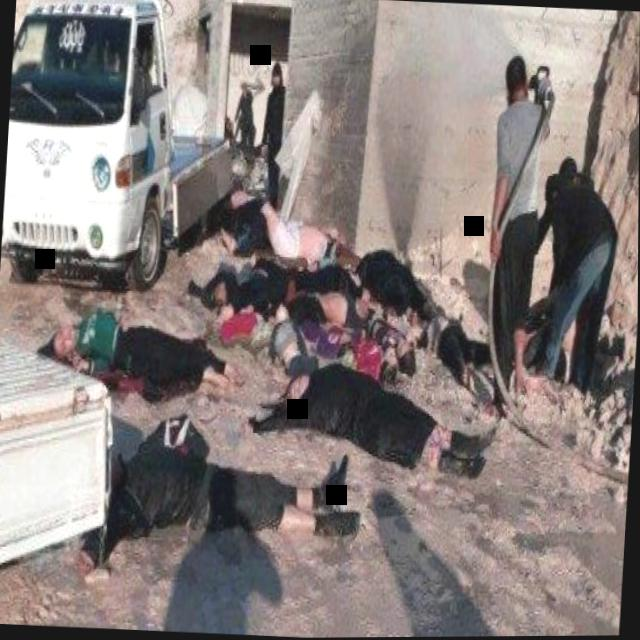Fall-Detected: (251, 173, 358, 270)
